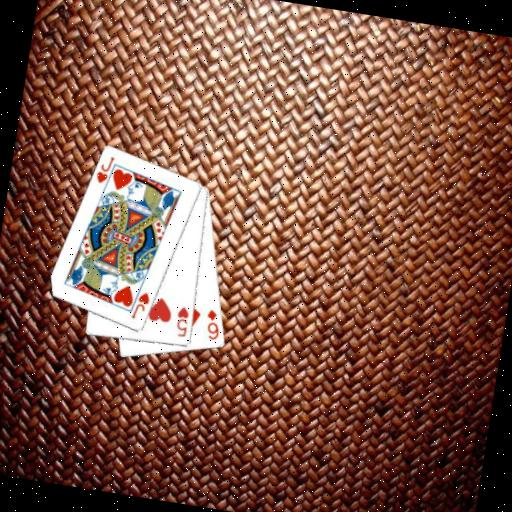5H: (171, 303, 192, 339)
6D: (200, 306, 224, 342)
JH: (127, 287, 152, 322), (92, 152, 116, 187)
